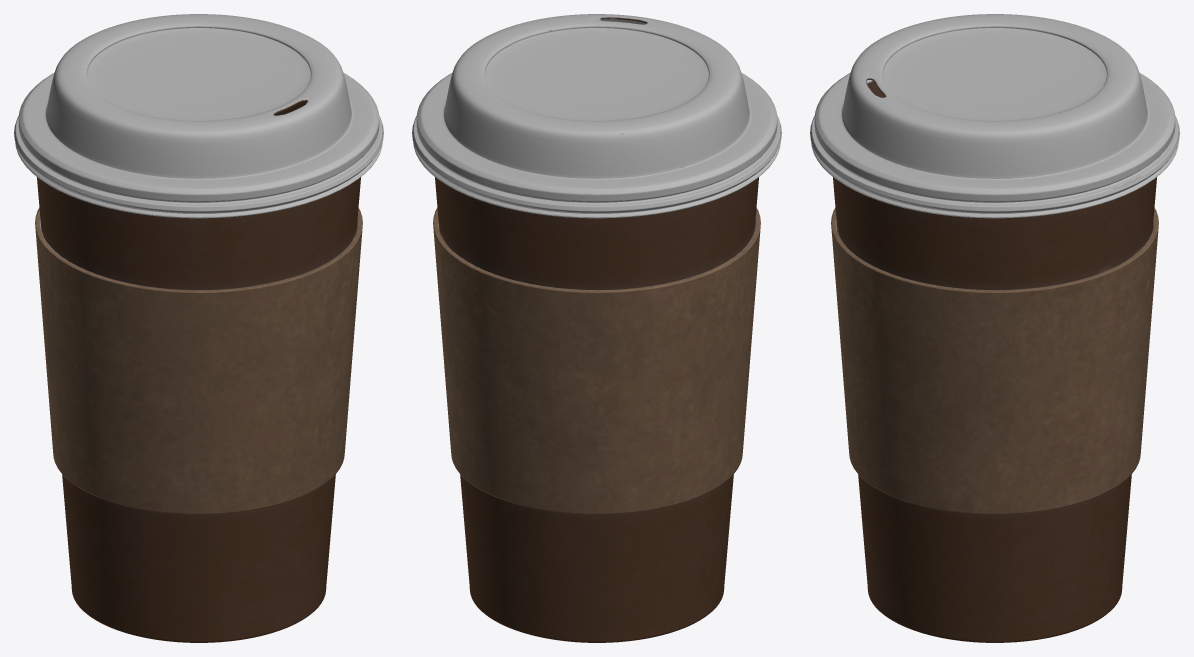
The model's file is RenderCrate-Paper_Cup_Brown.obj.
3 views of the same model, side by side, from view 1: azimuth 30°, elevation 25°; view 2: azimuth 150°, elevation 25°; view 3: azimuth 270°, elevation 25° (orthographic).
Visible parts, largest first — view 1: Paper_Cup_Brown; view 2: Paper_Cup_Brown; view 3: Paper_Cup_Brown.
Part boxes in pixels (bbox=[...]): Paper_Cup_Brown: bbox=[14, 14, 383, 642]; Paper_Cup_Brown: bbox=[412, 14, 781, 642]; Paper_Cup_Brown: bbox=[810, 14, 1179, 642].
Size of the model in its own units: 3.49 by 5.39 by 3.49.
Materials: 1 (1 with a texture image).
